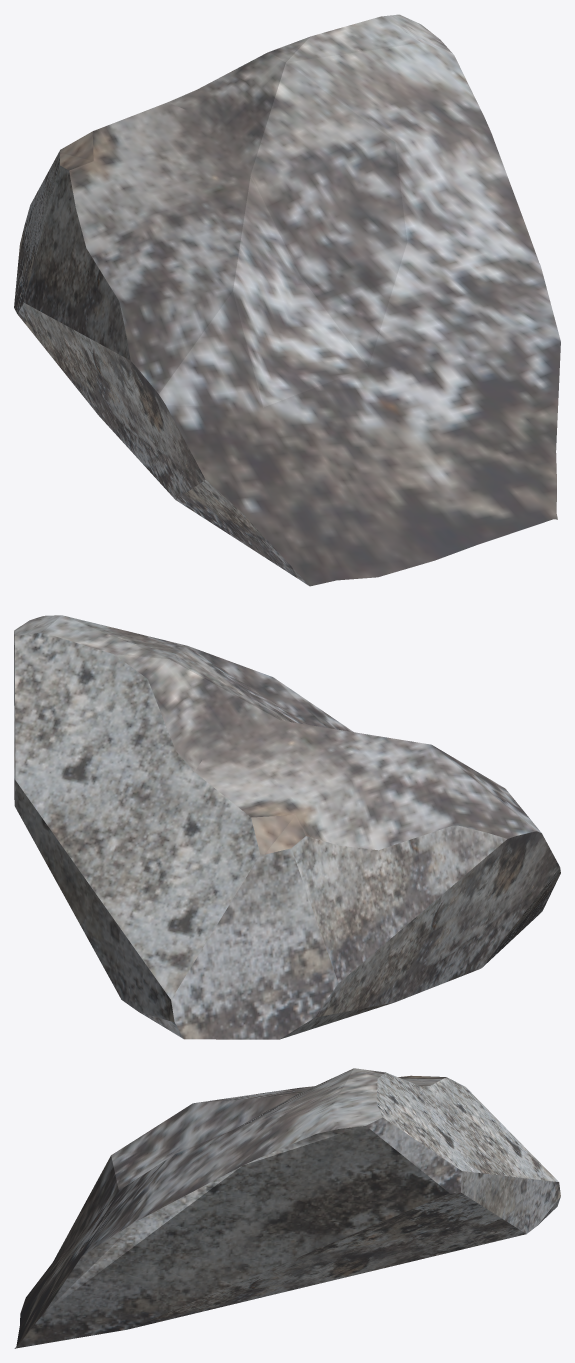
Rendered from Asteroid_Large_001_02_009_03_003.fbx.
3 views of the same model, one above another, from view 1: azimuth 30°, elevation 25°; view 2: azimuth 150°, elevation 25°; view 3: azimuth 270°, elevation 25° (orthographic). The views are drawn at different scales.
Parts seen in each view (by area): view 1: Asteroid_Large_001_02_009_03_003; view 2: Asteroid_Large_001_02_009_03_003; view 3: Asteroid_Large_001_02_009_03_003.
Part boxes in pixels (x1,y1,x2,y2): Asteroid_Large_001_02_009_03_003: (14,14,560,586); Asteroid_Large_001_02_009_03_003: (14,615,560,1039); Asteroid_Large_001_02_009_03_003: (14,1068,560,1348).
Size of the model in its own units: 10.47 by 9.13 by 15.94.
